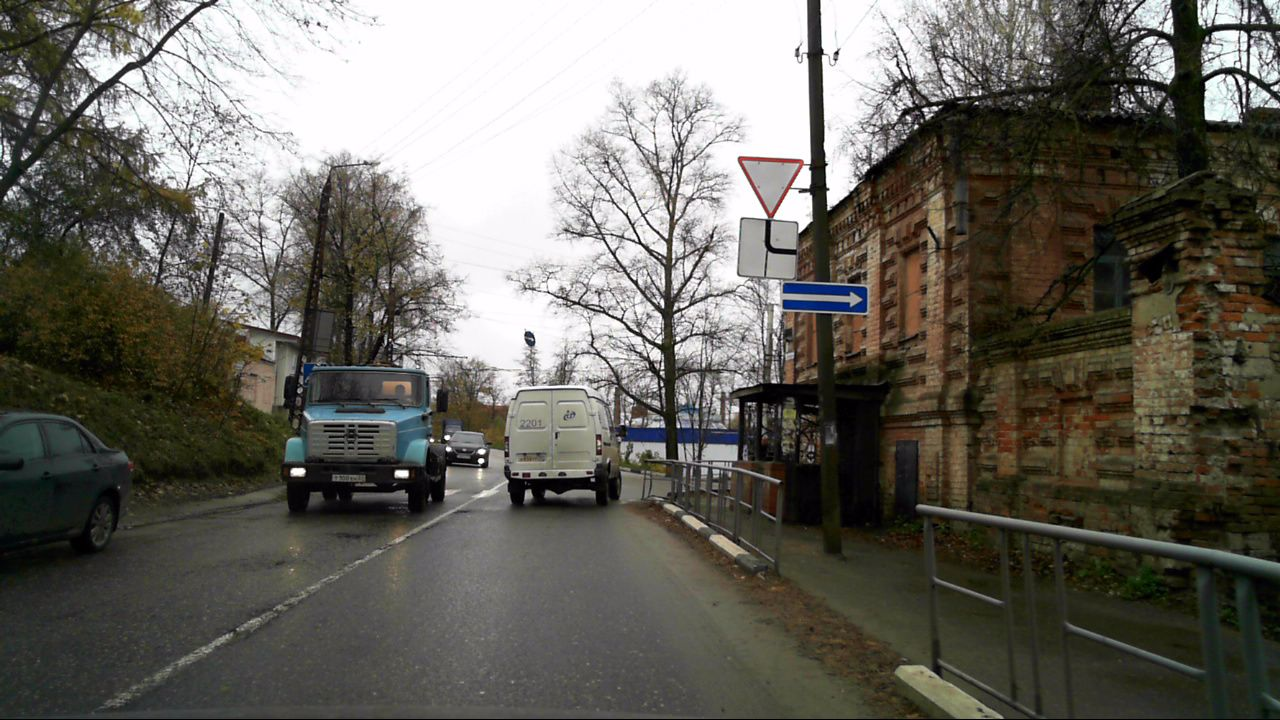One-Way Traffic: (781, 281, 869, 314)
